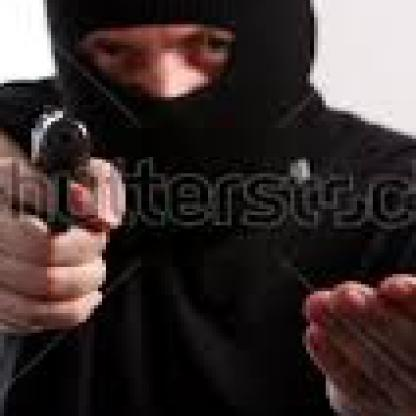gun: (16, 101, 98, 260)
